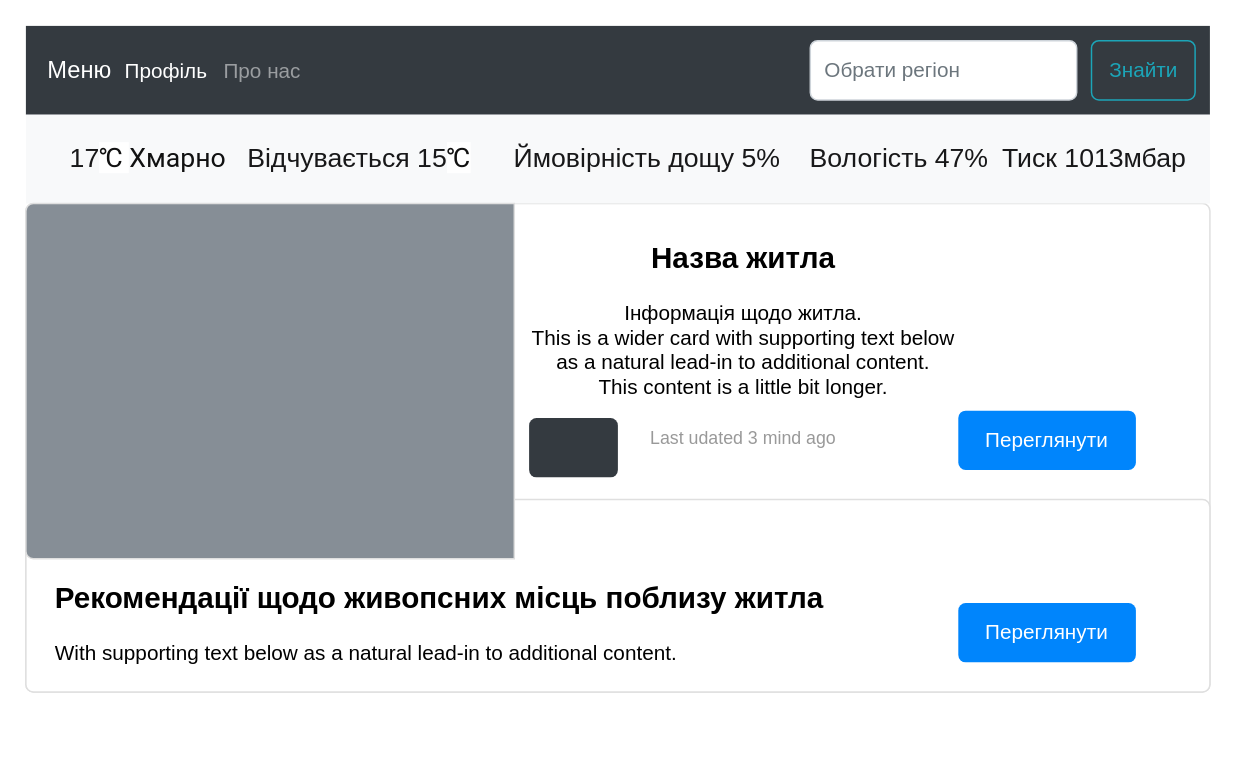
Image size: 1236x761. Some labels were removed from this diagram. The shapes that lost their labels are listed below. From the top down, each one's centre as x and y in pixels, then its label:
At [269,380]: "Image".
At [572,447]: "Ціна:".
